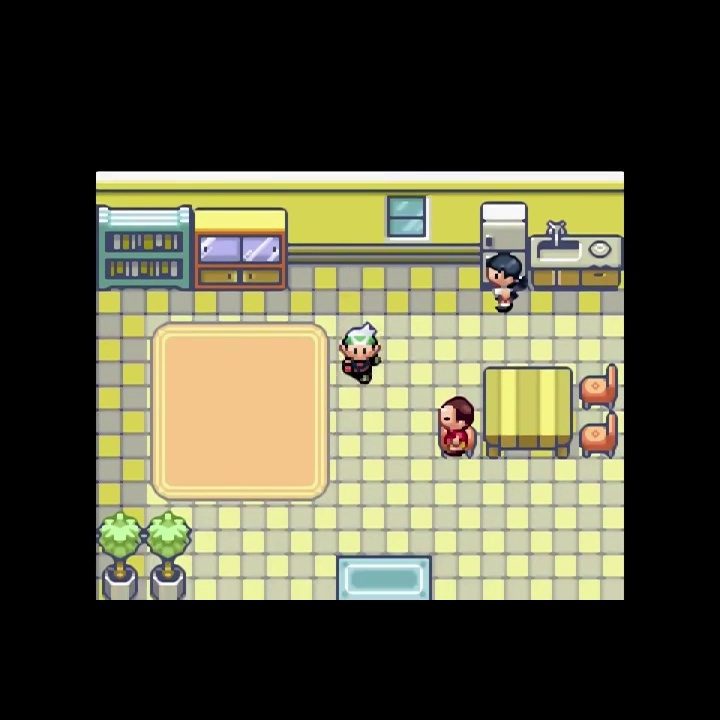exit: (334, 553, 435, 655)
npc: (477, 249, 531, 318), (336, 320, 385, 388), (435, 393, 476, 458)
